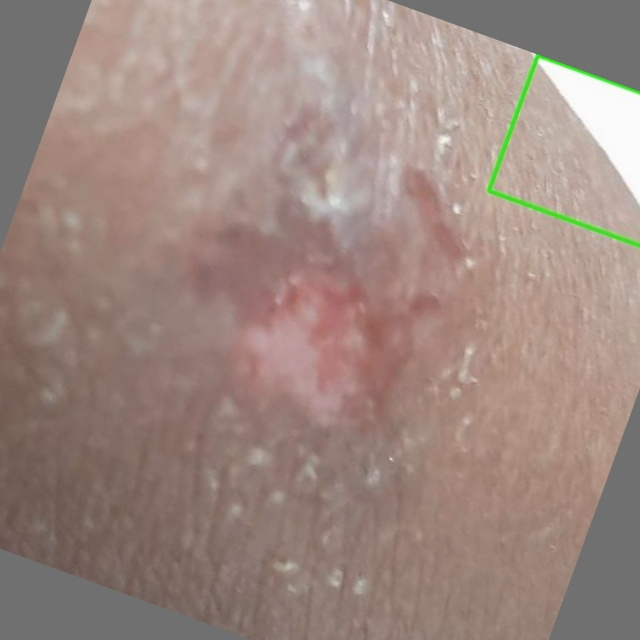Eczema: (487, 54, 639, 246)
